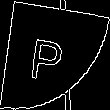P_N: (35, 27, 75, 83)
